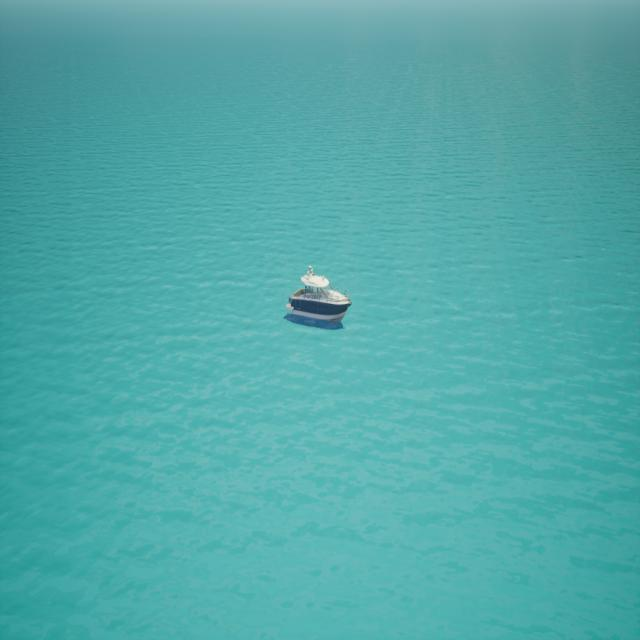ship: (284, 264, 350, 329)
